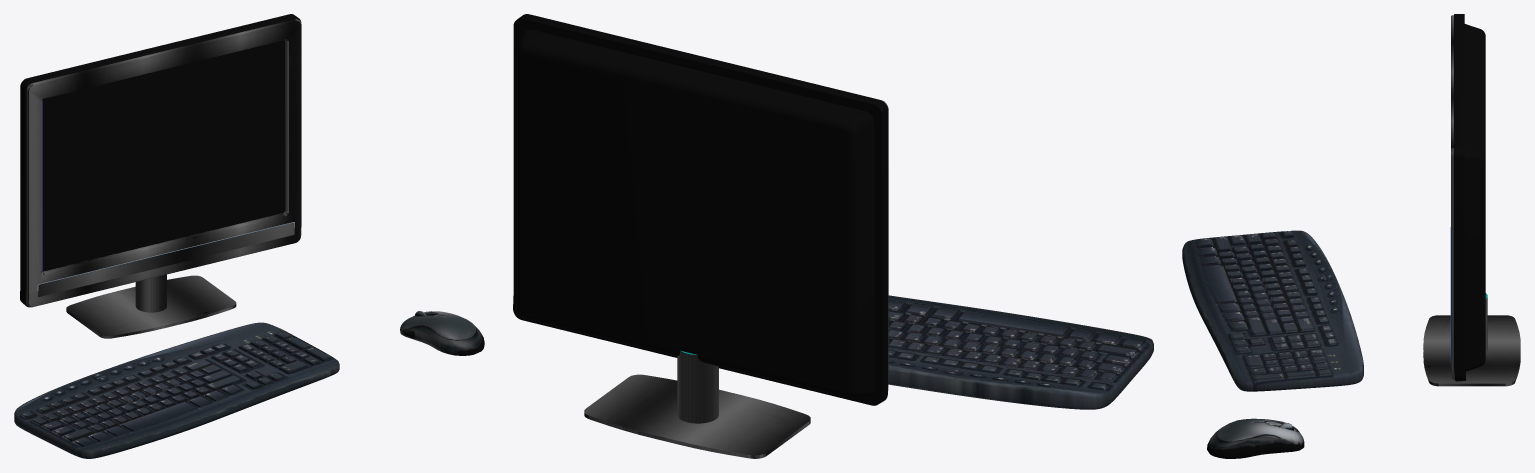
File: laptop.fbx
3 renders of one model, left to right at view 1: azimuth 30°, elevation 25°; view 2: azimuth 150°, elevation 25°; view 3: azimuth 270°, elevation 25°, orthographic. The views are drawn at different scales.
Visible parts, largest first — view 1: google.jpg, [Metal_Corrogated_Shiny] (×2), keyboard (×2), [Color_006], [Metal_Corrogated_Shiny]2, blackmouse2, [Metal_Corrogated_Shiny]3; view 2: [Color_005], keyboard (×2), [Color_006], [Metal_Corrogated_Shiny], [Metal_Corrogated_Shiny]3; view 3: keyboard (×2), [Color_005], [Metal_Corrogated_Shiny] (×2), [Color_006], blackmouse2.
Part boxes in pixels (x1,y1,x2,y2): google.jpg: (42, 40, 284, 271); [Metal_Corrogated_Shiny] (×2): (26, 19, 301, 338); keyboard (×2): (14, 322, 339, 458); [Color_006]: (20, 14, 301, 307); [Metal_Corrogated_Shiny]2: (38, 222, 294, 296); blackmouse2: (400, 311, 484, 355); [Metal_Corrogated_Shiny]3: (135, 274, 166, 312); [Color_005]: (517, 29, 874, 398); keyboard (×2): (888, 295, 1153, 409); [Color_006]: (513, 14, 888, 405); [Metal_Corrogated_Shiny]: (584, 374, 810, 458); [Metal_Corrogated_Shiny]3: (677, 351, 718, 423); keyboard (×2): (1182, 230, 1363, 391); [Color_005]: (1464, 24, 1485, 371); [Metal_Corrogated_Shiny] (×2): (1423, 15, 1520, 386); [Color_006]: (1454, 14, 1465, 381); blackmouse2: (1207, 418, 1304, 458).
Size of the model in its own units: 20.23 by 11.75 by 13.18.
Materials: 13 (5 with a texture image).
